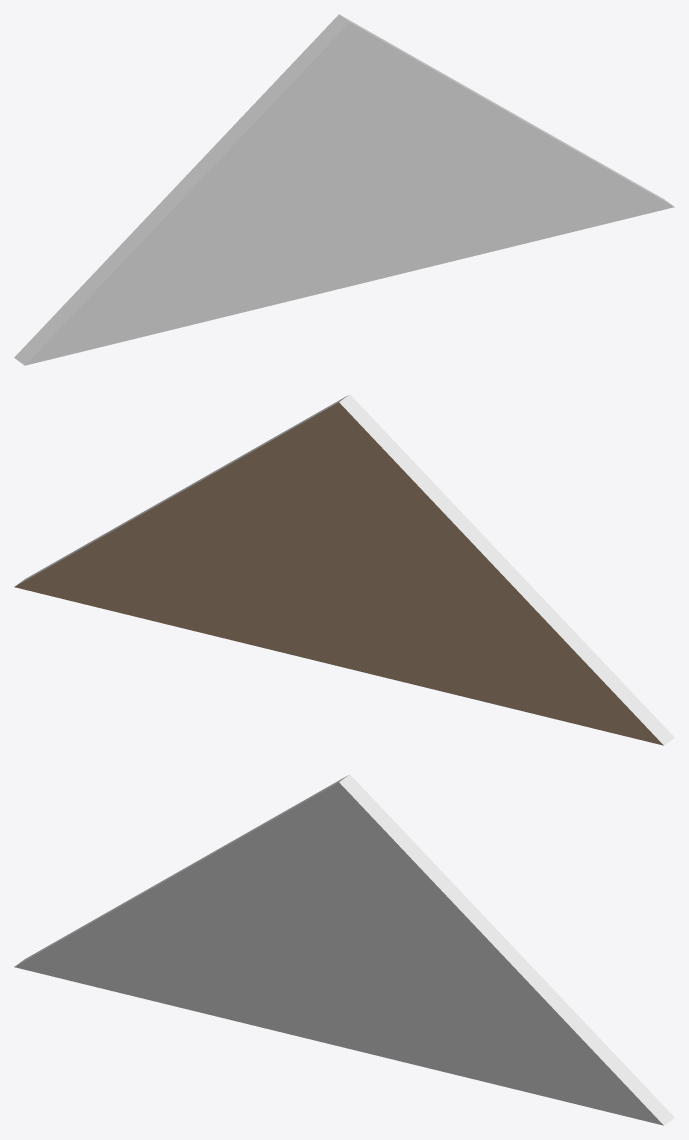
The model's file is Wall2_C2_16.fbx.
3 views of the same model, one above another, from view 1: azimuth 30°, elevation 25°; view 2: azimuth 150°, elevation 25°; view 3: azimuth 330°, elevation 25° (orthographic).
Visible parts, largest first — view 1: Wall2_C2_16; view 2: Wall2_C2_16; view 3: Wall2_C2_16.
Boxes of the visible parts, x1,y1,x2,y2 form: Wall2_C2_16: (14, 14, 674, 365); Wall2_C2_16: (14, 394, 674, 745); Wall2_C2_16: (14, 774, 674, 1125).
Size of the model in its own units: 515 by 200 by 15.
